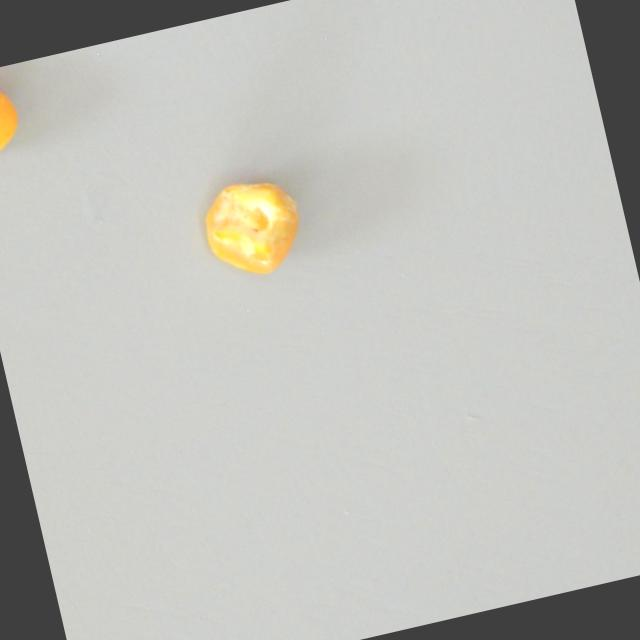dañado: (190, 163, 321, 287)
pelicula: (0, 64, 30, 164)
